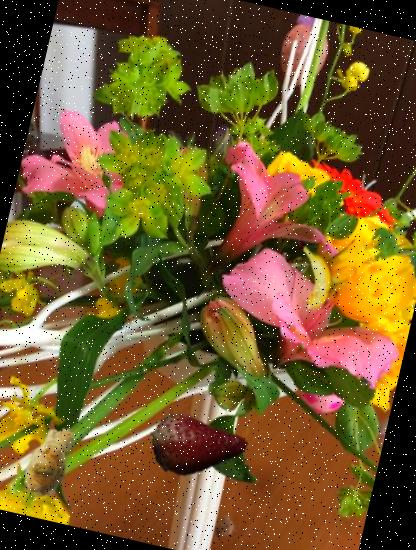Banana: (272, 237, 350, 316)
Ginger: (3, 414, 96, 506)
Strawberry: (142, 382, 256, 496)
